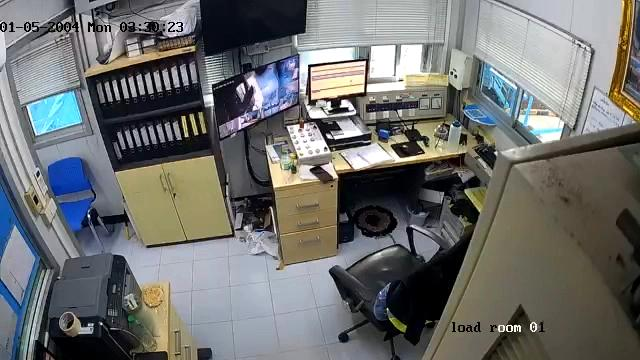Phone: (309, 165, 334, 184)
